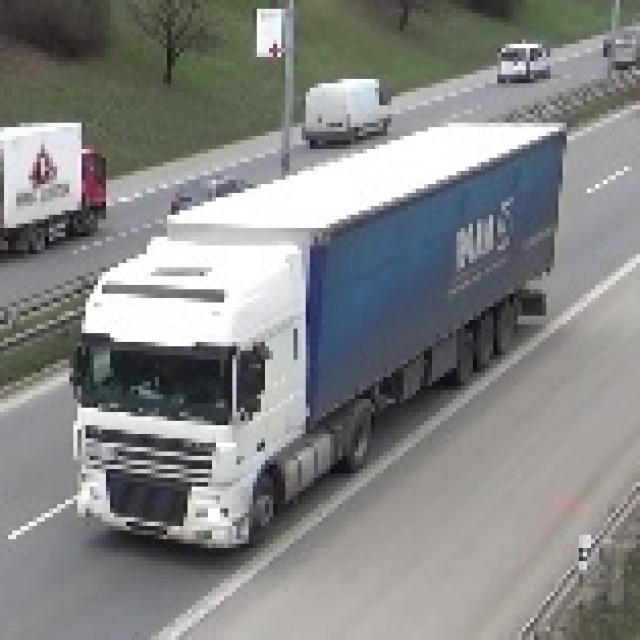TRUCK: (69, 121, 559, 546), (1, 124, 110, 250), (303, 77, 393, 146)
